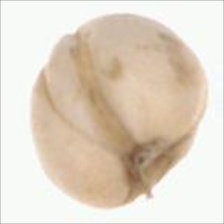L5: (40, 30, 131, 154), (118, 126, 200, 208)
L6: (29, 11, 209, 211)
